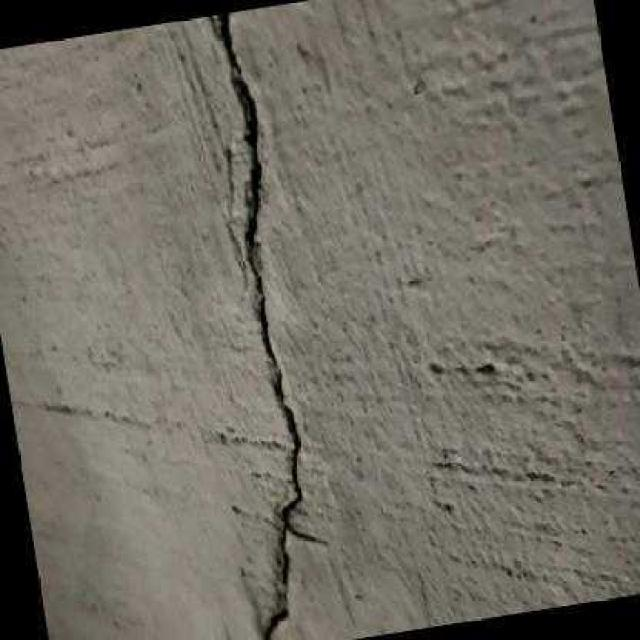D00: (218, 11, 300, 640)
